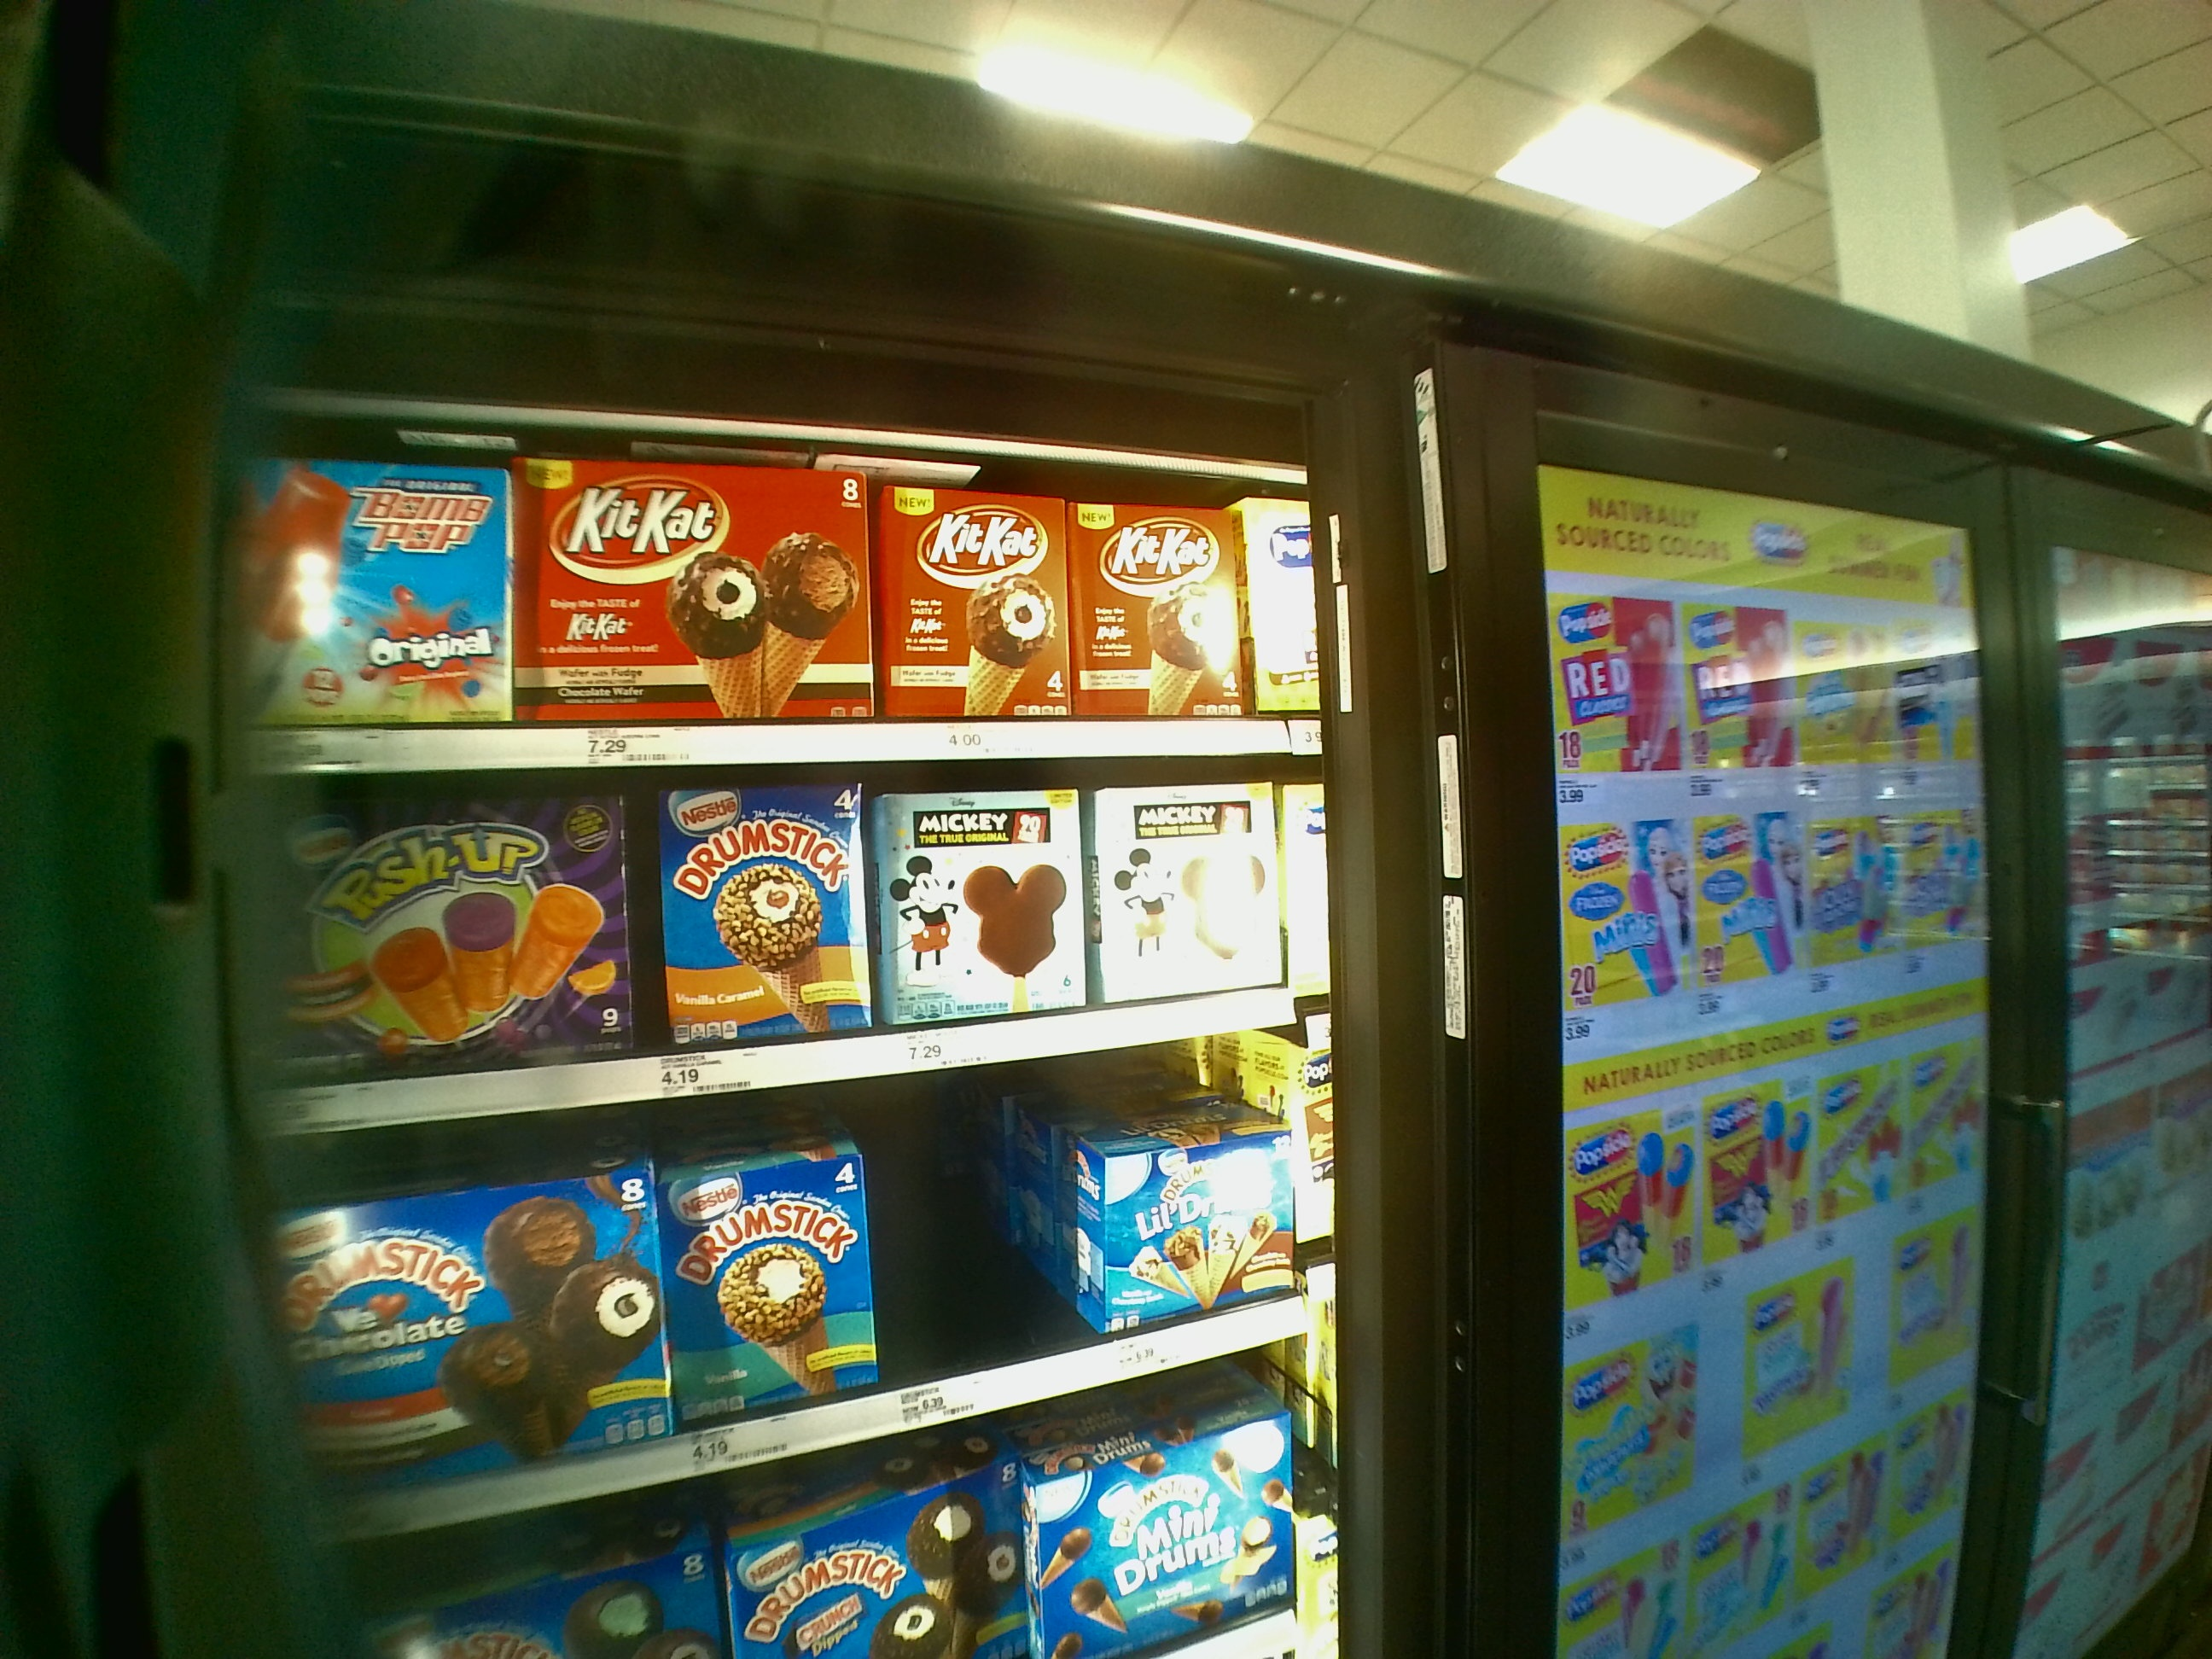shelf: (272, 1066, 1331, 1441), (221, 415, 1322, 770), (246, 774, 1289, 1100)
